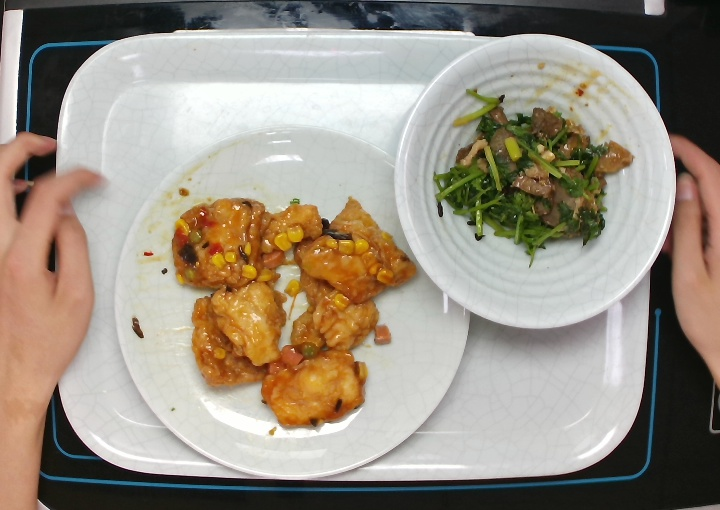JYsf-Da_Yuan_Pan: (110, 122, 477, 484)
JYsf-Xiao_Tang_Wan: (394, 28, 681, 333)
